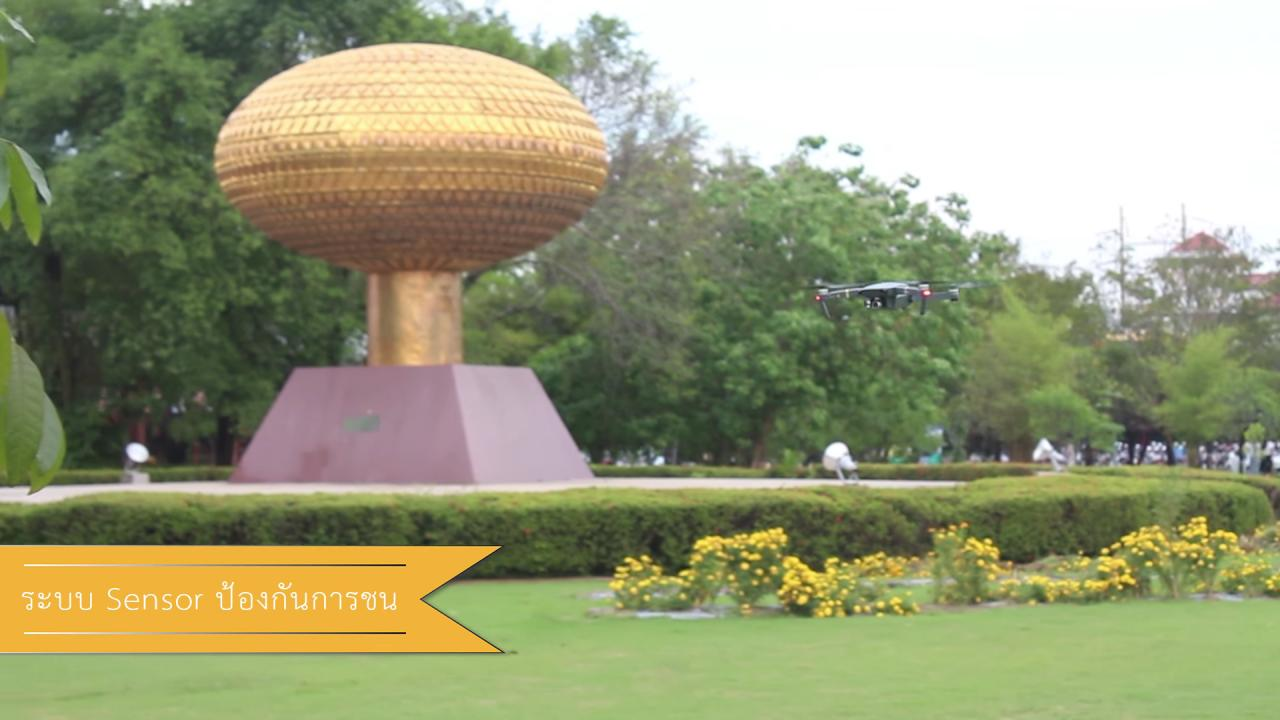Drone: (797, 270, 980, 329)
